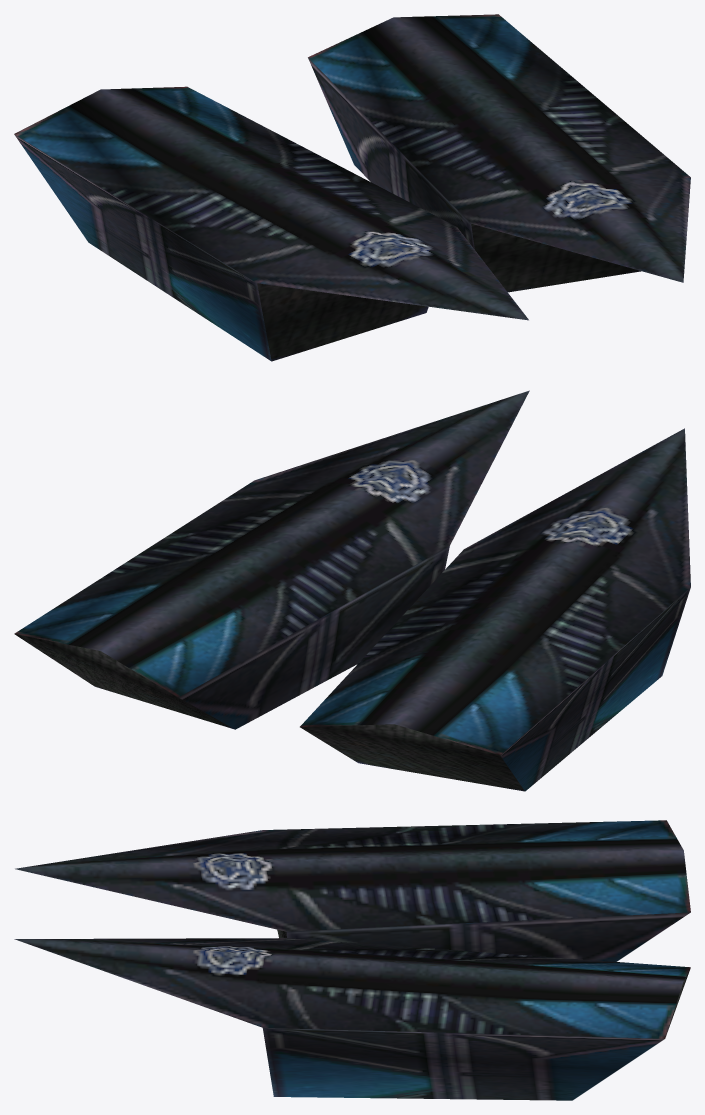
The model's file is ArmPads6__LED.glb.
3 renders of one model, top to bottom at view 1: azimuth 30°, elevation 25°; view 2: azimuth 150°, elevation 25°; view 3: azimuth 270°, elevation 25°, orthographic. The views are drawn at different scales.
Visible parts, largest first — view 1: ArmPads6; view 2: ArmPads6; view 3: ArmPads6.
Boxes of the visible parts, bbox=[...] form: ArmPads6: bbox=[14, 14, 690, 361]; ArmPads6: bbox=[14, 390, 690, 791]; ArmPads6: bbox=[14, 820, 690, 1100].
Size of the model in its own units: 14.72 by 3.35 by 19.1.
1 material, 1 textured.
